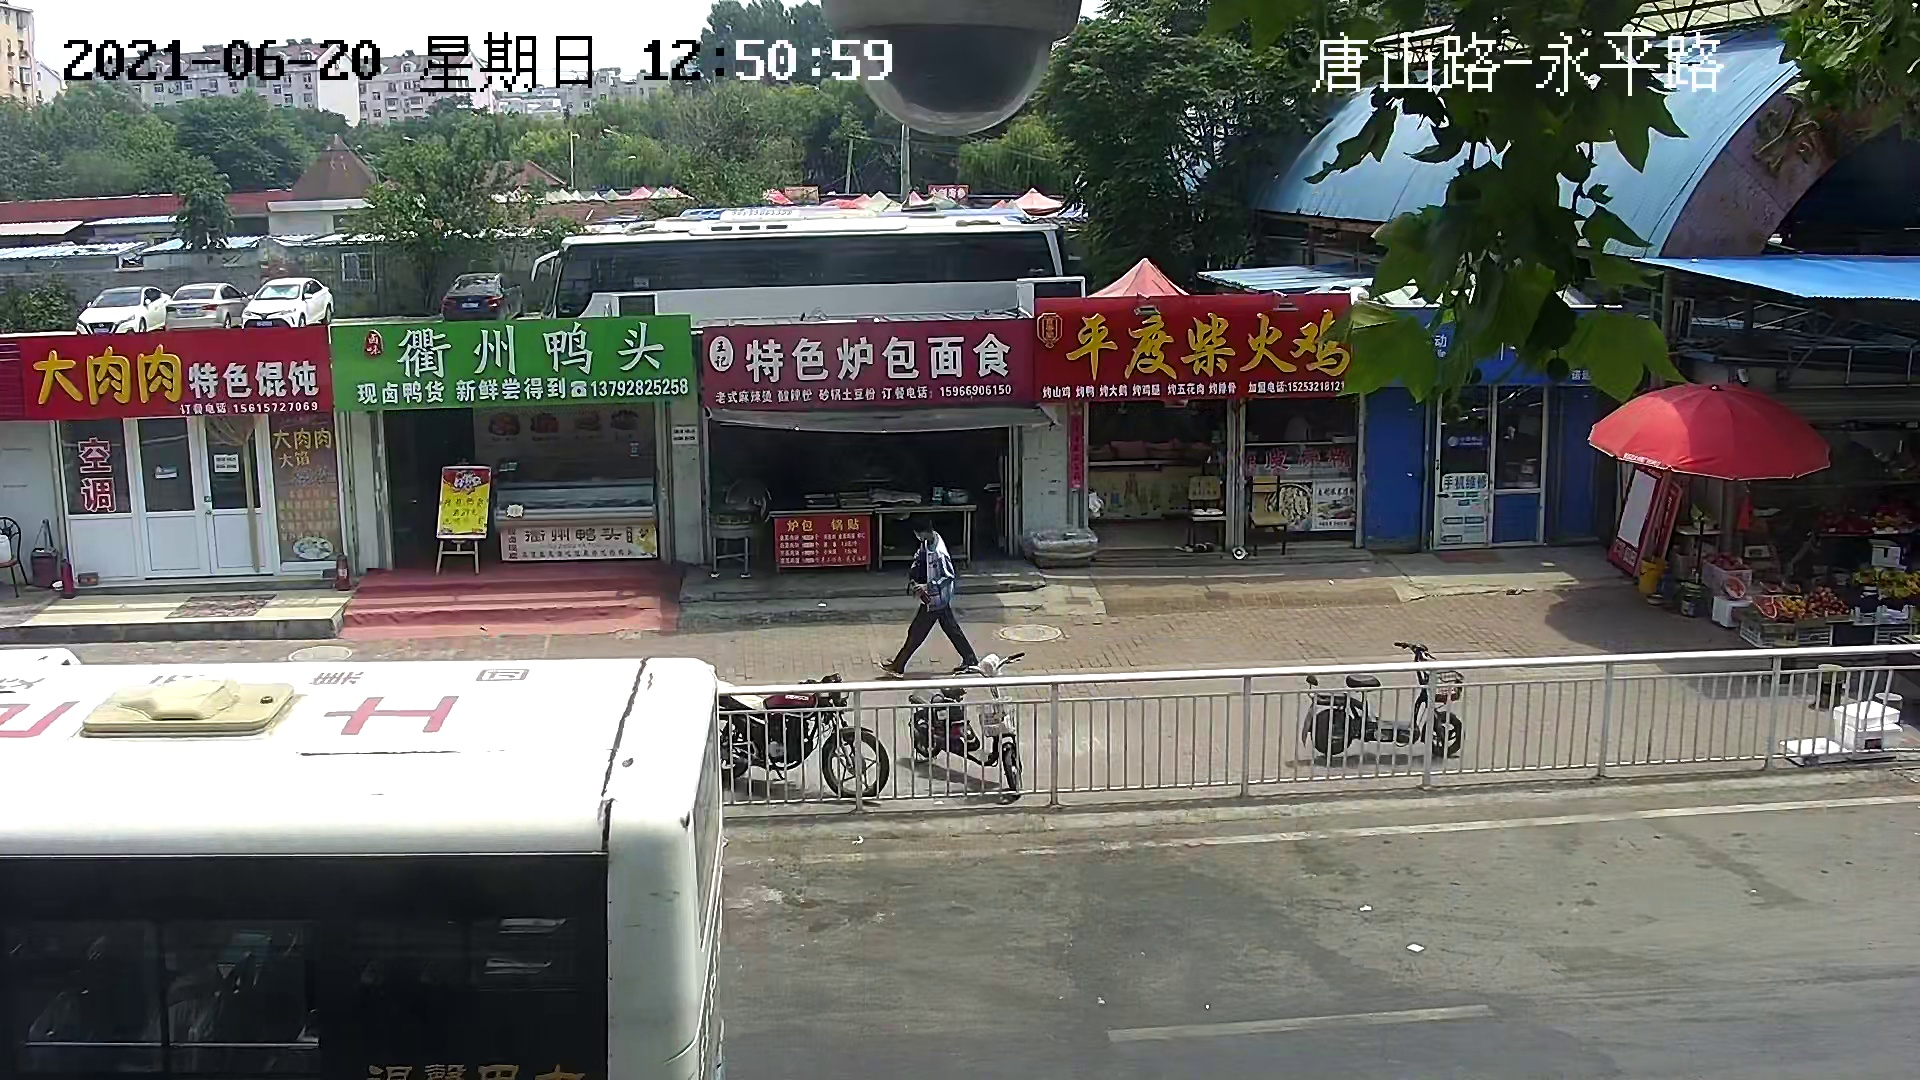chair: (1247, 473, 1288, 556), (1187, 473, 1226, 553), (1, 516, 28, 597)
umbrella: (1585, 380, 1832, 483), (824, 185, 1068, 214), (1083, 255, 1192, 298)
